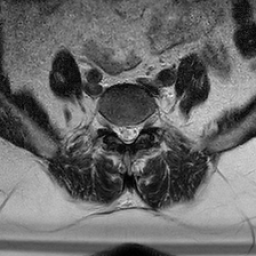CCS_normal: (123, 116, 131, 149)
LFS_normal: (139, 112, 146, 137)
LLS_normal: (131, 118, 139, 145)
RFS_normal: (108, 112, 115, 140)
RLS_normal: (115, 117, 123, 146)
